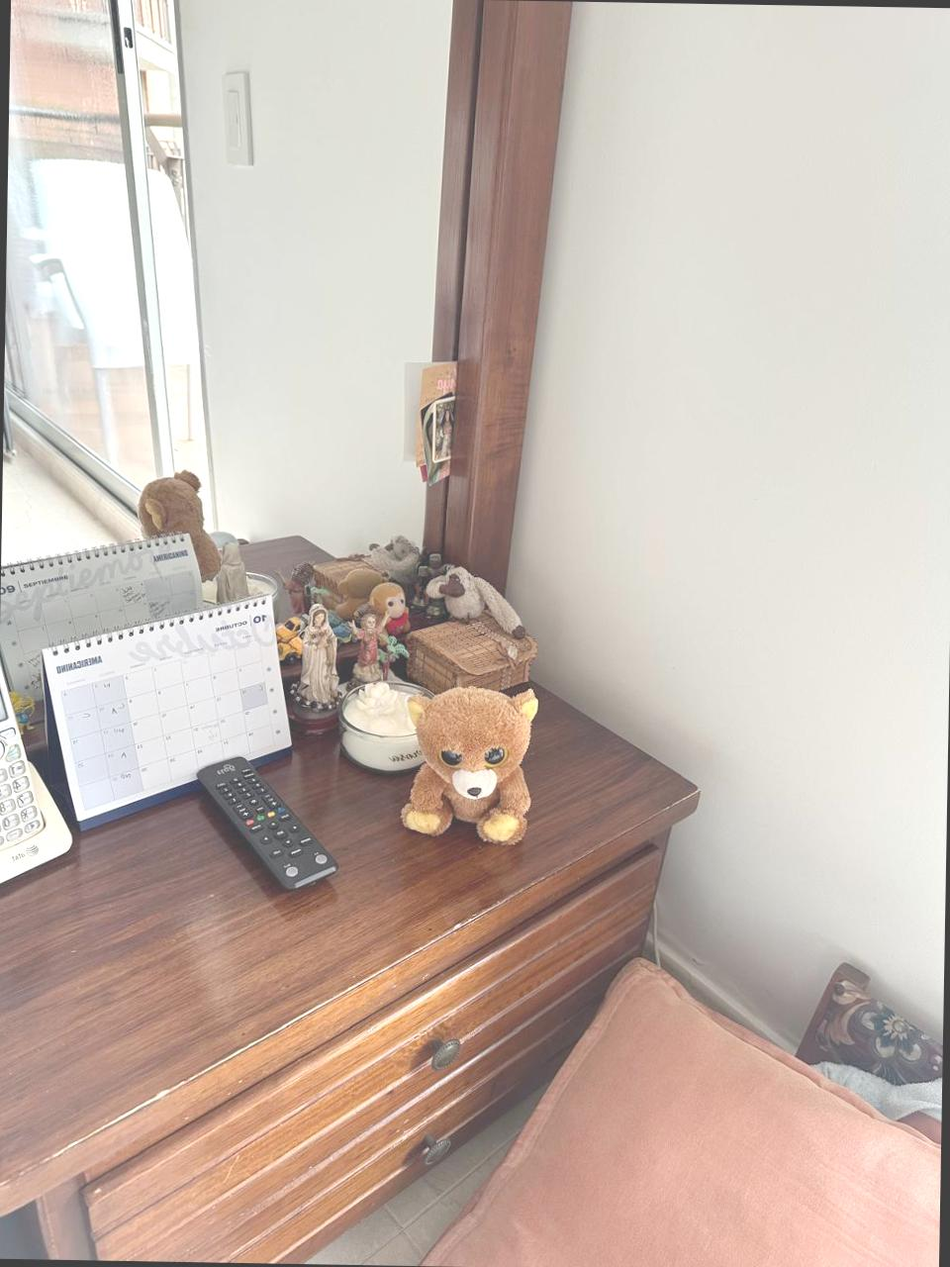peluche_sebastian: (397, 674, 544, 847)
